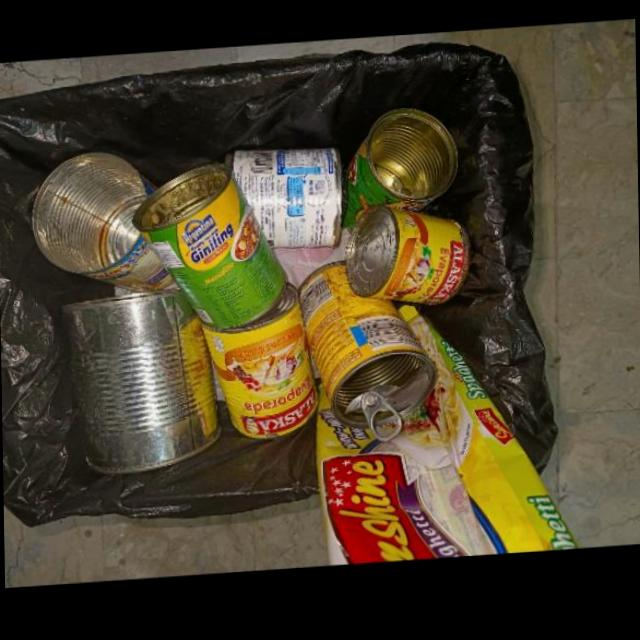bao_bi_thuc_pham: (316, 308, 578, 568)
nhom: (62, 293, 223, 476), (134, 164, 288, 331), (300, 264, 439, 445), (36, 153, 177, 294), (204, 285, 319, 441), (344, 112, 461, 235), (347, 209, 472, 309), (227, 151, 345, 251)
